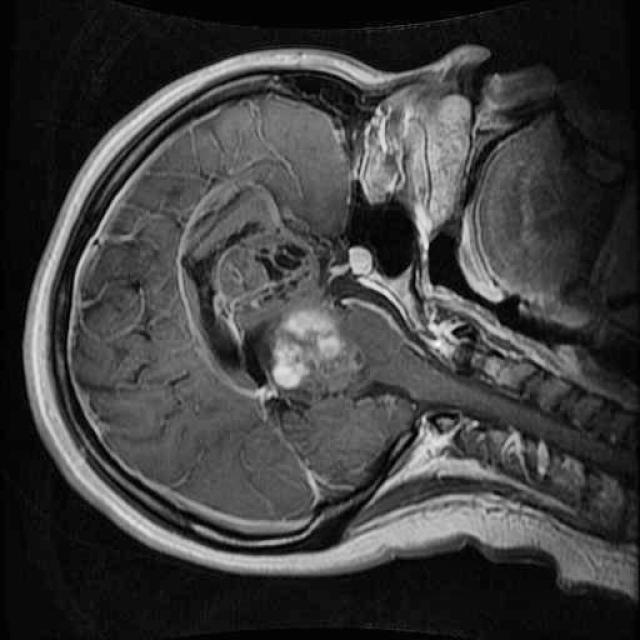Non-Tumor: (168, 158, 369, 421)
